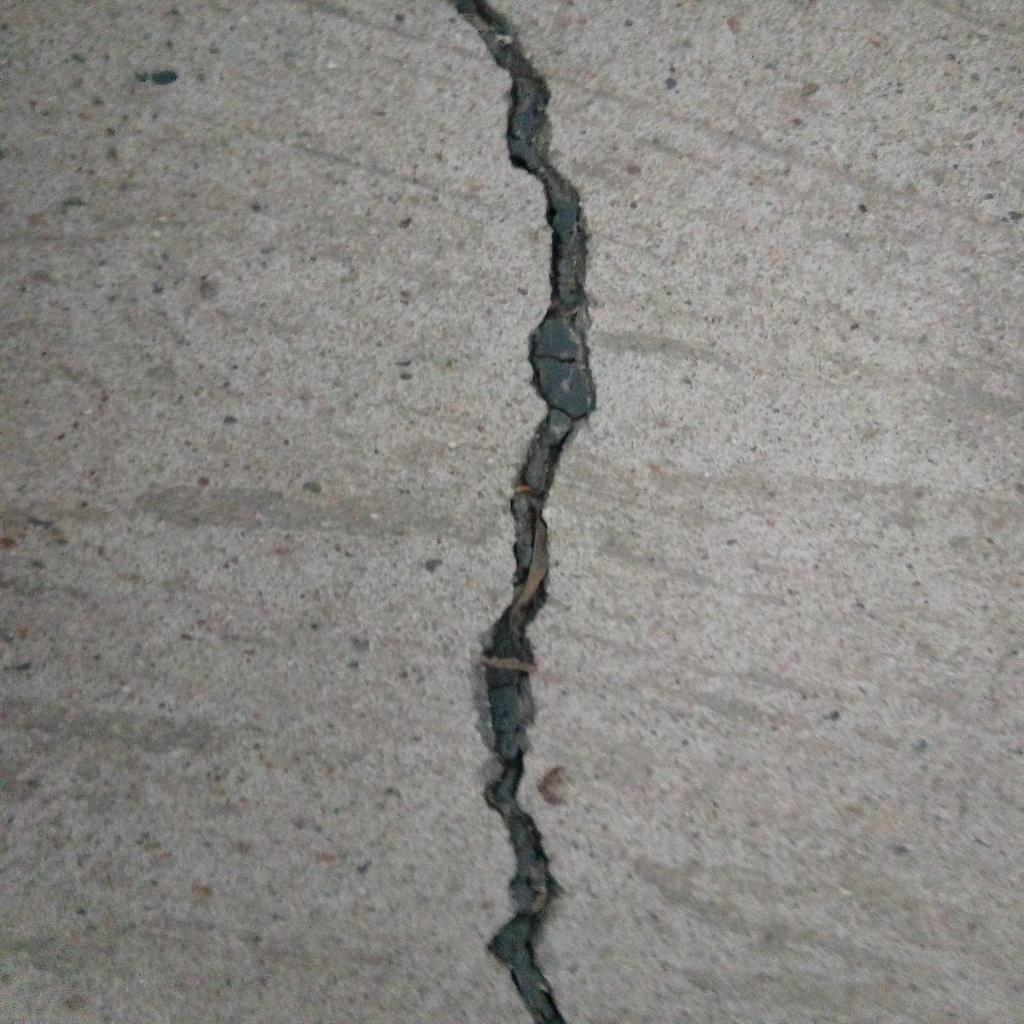Crack: (455, 1, 598, 1024)
